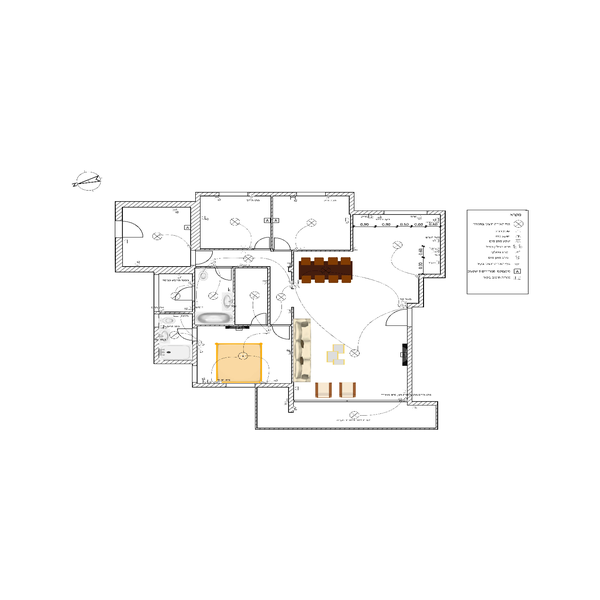door: (380, 304, 412, 327), (116, 221, 146, 241), (273, 225, 293, 254), (173, 288, 197, 308), (192, 244, 214, 265), (213, 263, 235, 284), (247, 308, 267, 328), (177, 324, 196, 345), (253, 231, 271, 252), (277, 324, 294, 345)
room: (291, 253, 419, 404), (187, 259, 302, 387), (193, 190, 358, 256), (117, 198, 201, 277)
wall: (117, 201, 197, 212), (405, 325, 415, 405), (187, 199, 201, 250), (118, 267, 196, 275), (441, 210, 448, 276), (246, 192, 295, 201), (350, 209, 384, 219), (266, 268, 272, 324), (287, 388, 297, 412), (257, 383, 294, 389), (117, 238, 123, 272), (418, 273, 424, 307), (417, 274, 443, 280), (350, 194, 357, 215)
